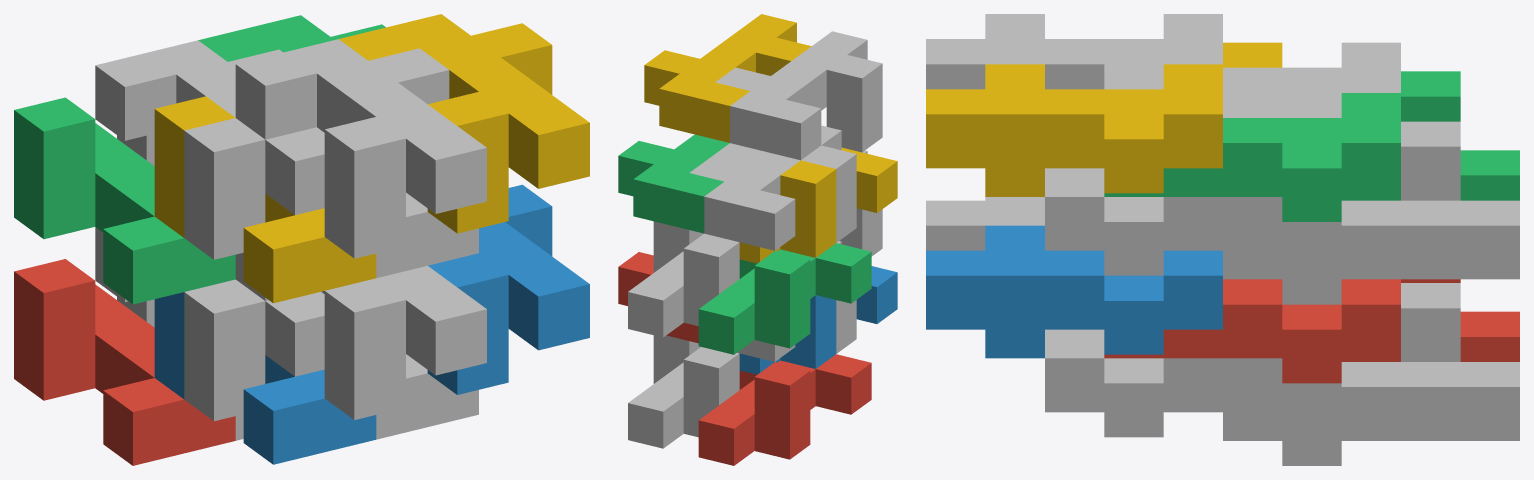
Rendered from tiling.obj.
3 renders of one model, left to right at view 1: azimuth 30°, elevation 25°; view 2: azimuth 150°, elevation 25°; view 3: azimuth 270°, elevation 25°, orthographic. The views are drawn at different scales.
Parts seen in each view (by area): view 1: copy_2_domain_4, copy_2_domain_3, copy_1_domain_3, copy_1_domain_1, copy_2_domain_8, copy_2_domain_2, copy_2_domain_6, copy_2_domain_1, copy_1_domain_4, copy_1_domain_2, copy_1_domain_8, copy_1_domain_6 (+3 smaller); view 2: copy_2_domain_4, copy_1_domain_3, copy_1_domain_1, copy_2_domain_8, copy_2_domain_3, copy_1_domain_7, copy_1_domain_5, copy_1_domain_4, copy_2_domain_7, copy_1_domain_2, copy_2_domain_1, copy_2_domain_5 (+3 smaller); view 3: copy_2_domain_8, copy_2_domain_6, copy_1_domain_7, copy_1_domain_5, copy_1_domain_8, copy_2_domain_7, copy_1_domain_6, copy_2_domain_5, copy_2_domain_4, copy_2_domain_3, copy_1_domain_3, copy_2_domain_2 (+2 smaller).
Boxes of the visible parts, x1,y1,x2,y2 form: copy_2_domain_4: (235,39,486,258); copy_2_domain_3: (95,40,324,259); copy_1_domain_3: (14,97,235,304); copy_1_domain_1: (14,259,235,465); copy_2_domain_8: (339,14,589,233); copy_2_domain_2: (235,252,486,419); copy_2_domain_6: (427,184,589,394); copy_2_domain_1: (95,227,324,421); copy_1_domain_4: (154,96,376,303); copy_1_domain_2: (154,292,376,464); copy_1_domain_8: (376,192,478,277); copy_1_domain_6: (376,354,478,439); copy_2_domain_4: (715,31,882,160); copy_1_domain_3: (698,243,871,354); copy_1_domain_1: (698,354,871,465); copy_2_domain_8: (644,14,811,142); copy_2_domain_3: (689,125,856,250); copy_1_domain_7: (628,233,739,337); copy_1_domain_5: (628,347,739,448); copy_1_domain_4: (739,147,897,263); copy_2_domain_7: (618,134,729,233); copy_1_domain_2: (739,266,897,374); copy_2_domain_1: (737,241,856,361); copy_2_domain_5: (618,252,698,343); copy_2_domain_8: (926,64,1222,196); copy_2_domain_6: (926,225,1222,358); copy_1_domain_7: (1223,121,1519,304); copy_1_domain_5: (1223,283,1519,465); copy_1_domain_8: (1045,93,1341,275); copy_2_domain_7: (1104,93,1400,221); copy_1_domain_6: (1045,329,1341,437); copy_2_domain_5: (1104,279,1400,383); copy_2_domain_4: (926,14,1222,89); copy_2_domain_3: (1223,42,1400,117); copy_1_domain_3: (1341,71,1519,200); copy_2_domain_2: (926,197,1044,250).
Bounding box in the file's own units: 7 × 7 × 10.
